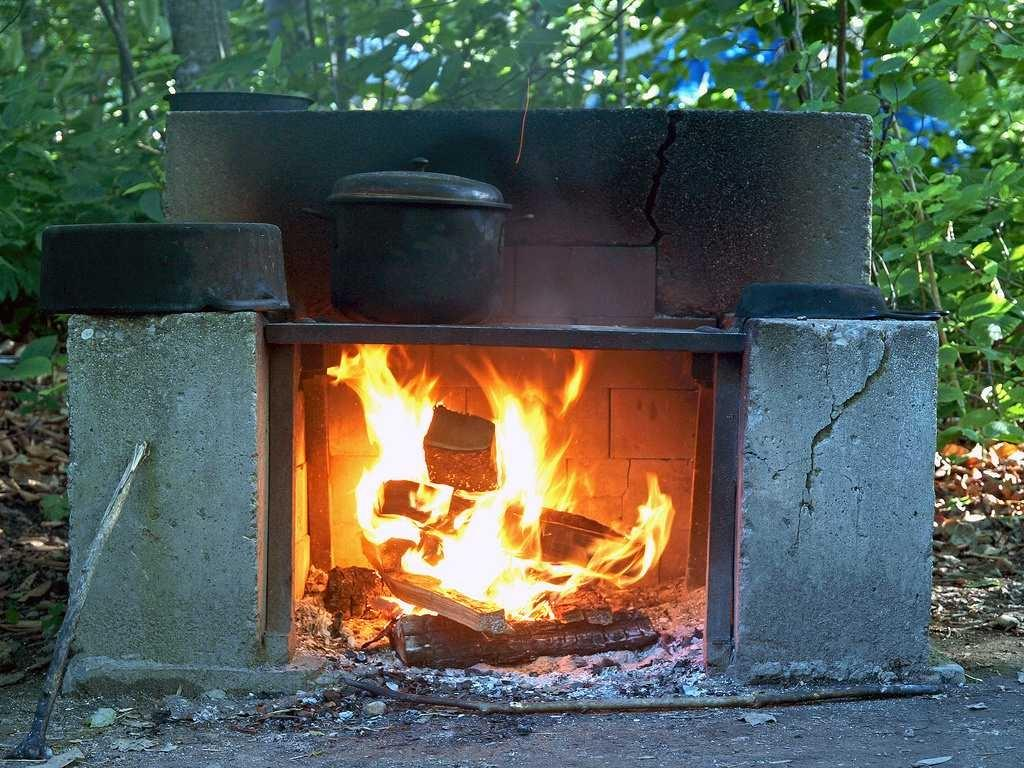fire: (356, 364, 418, 470), (450, 508, 514, 588), (628, 498, 680, 560), (500, 412, 538, 492)
